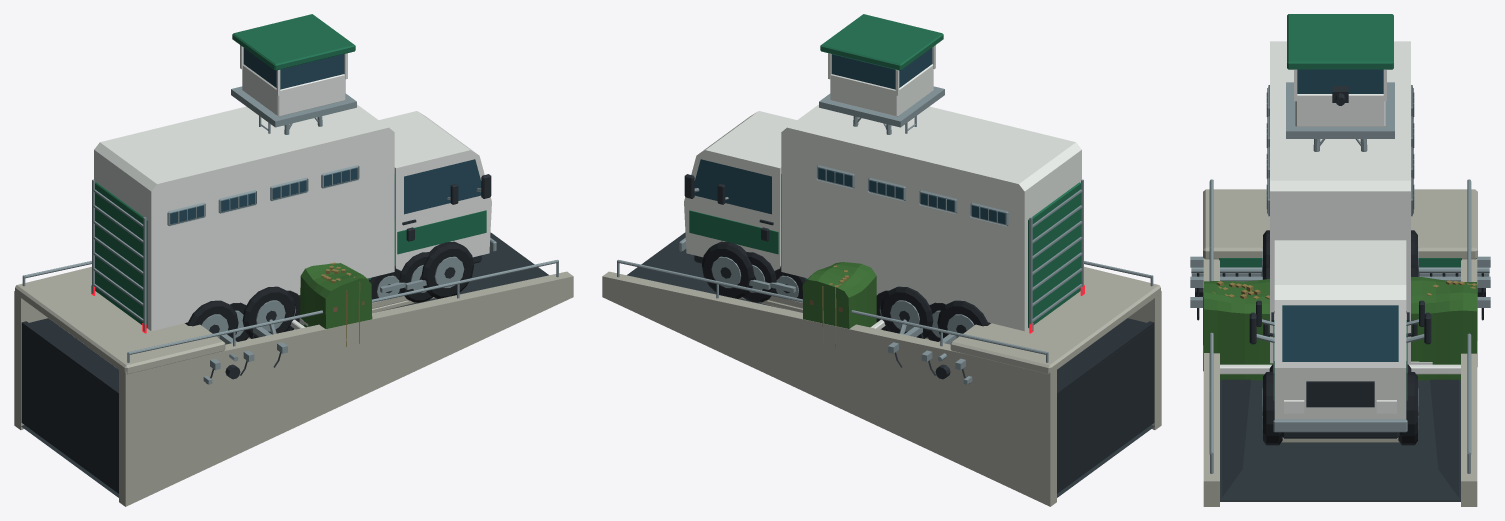
Rendered from course-extras.glb.
3 renders of one model, left to right at view 1: azimuth 30°, elevation 25°; view 2: azimuth 150°, elevation 25°; view 3: azimuth 270°, elevation 25°, orthographic. The views are drawn at different scales.
Parts seen in each view (by area): view 1: HorseAmbulance, TunnelEntrance, PhotoFinishTower, SteepleHedge, WaterTruck, HarrowTractor, Ambulance; view 2: HorseAmbulance, TunnelEntrance, PhotoFinishTower, SteepleHedge, WaterTruck, HarrowTractor, Ambulance; view 3: HorseAmbulance, TunnelEntrance, PhotoFinishTower, SteepleHedge, HarrowTractor, SteepleFence, FlowerBed, WaterTruck.
Part boxes in pixels (<box>): HorseAmbulance: <box>91,104,496,338</box>; TunnelEntrance: <box>14,232,573,506</box>; PhotoFinishTower: <box>231,14,356,134</box>; SteepleHedge: <box>290,263,372,329</box>; WaterTruck: <box>221,174,458,341</box>; HarrowTractor: <box>203,319,287,384</box>; Ambulance: <box>240,227,414,312</box>; HorseAmbulance: <box>679,104,1084,338</box>; TunnelEntrance: <box>602,232,1161,506</box>; PhotoFinishTower: <box>819,14,944,134</box>; SteepleHedge: <box>802,262,885,329</box>; WaterTruck: <box>717,174,954,341</box>; HarrowTractor: <box>888,319,972,384</box>; Ambulance: <box>761,227,935,312</box>; HorseAmbulance: <box>1249,41,1431,445</box>; TunnelEntrance: <box>1203,179,1477,506</box>; PhotoFinishTower: <box>1286,14,1394,151</box>; SteepleHedge: <box>1204,277,1476,380</box>; HarrowTractor: <box>1190,256,1490,320</box>; SteepleFence: <box>1203,280,1477,371</box>; FlowerBed: <box>1281,437,1399,442</box>; WaterTruck: <box>1256,255,1424,371</box>.
Bounding box in the file's own units: 14.01 × 11.12 × 6.6.
